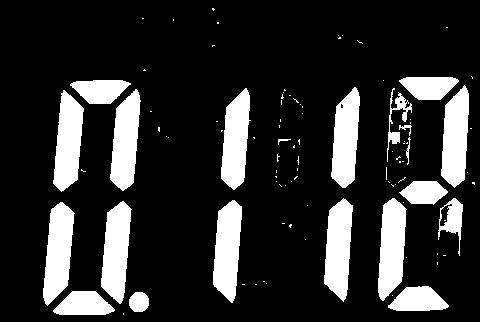0: (43, 79, 142, 319)
1: (210, 85, 253, 307), (320, 87, 362, 303)
2: (377, 77, 470, 311)
dot: (128, 291, 150, 315)
